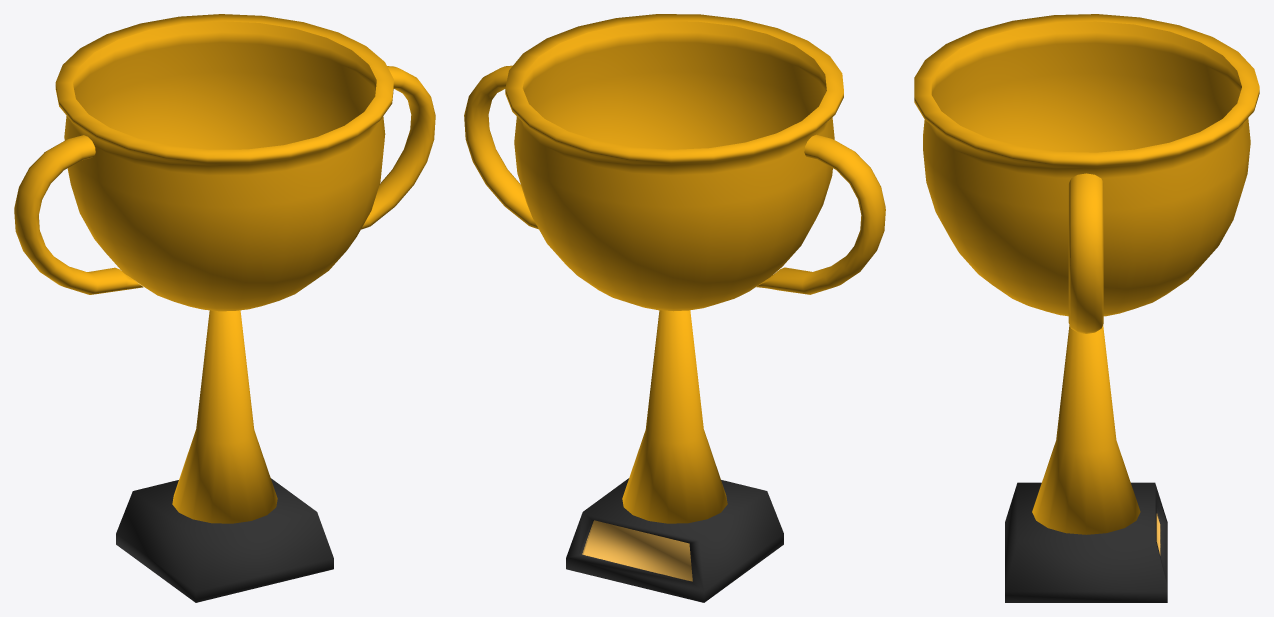
File: trophy.fbx
3 renders of one model, left to right at view 1: azimuth 30°, elevation 25°; view 2: azimuth 150°, elevation 25°; view 3: azimuth 270°, elevation 25°, orthographic. The views are drawn at different scales.
Parts seen in each view (by area): view 1: Cube; view 2: Cube; view 3: Cube.
Part boxes in pixels (bbox=[...]): Cube: bbox=[14, 14, 435, 602]; Cube: bbox=[464, 14, 885, 602]; Cube: bbox=[914, 14, 1259, 602].
Bounding box in the file's own units: 150 × 163 × 106.
1 material, 1 textured.
